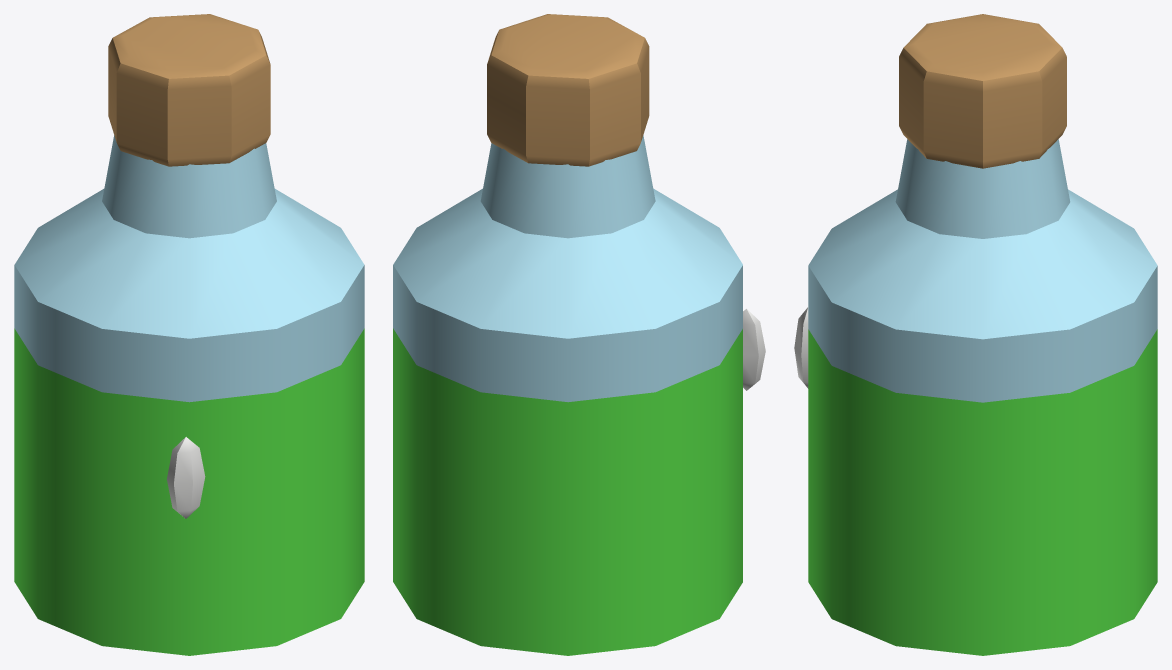
The model's file is LuckPotion.fbx.
3 views of the same model, side by side, from view 1: azimuth 30°, elevation 25°; view 2: azimuth 150°, elevation 25°; view 3: azimuth 270°, elevation 25° (orthographic).
Parts seen in each view (by area): view 1: LuckPotion; view 2: LuckPotion; view 3: LuckPotion.
Part boxes in pixels (x1,y1,x2,y2): LuckPotion: [14, 14, 364, 655]; LuckPotion: [393, 14, 765, 655]; LuckPotion: [794, 14, 1157, 655].
Size of the model in its own units: 1 by 1.7 by 1.04.
Materials: 1 (1 with a texture image).
